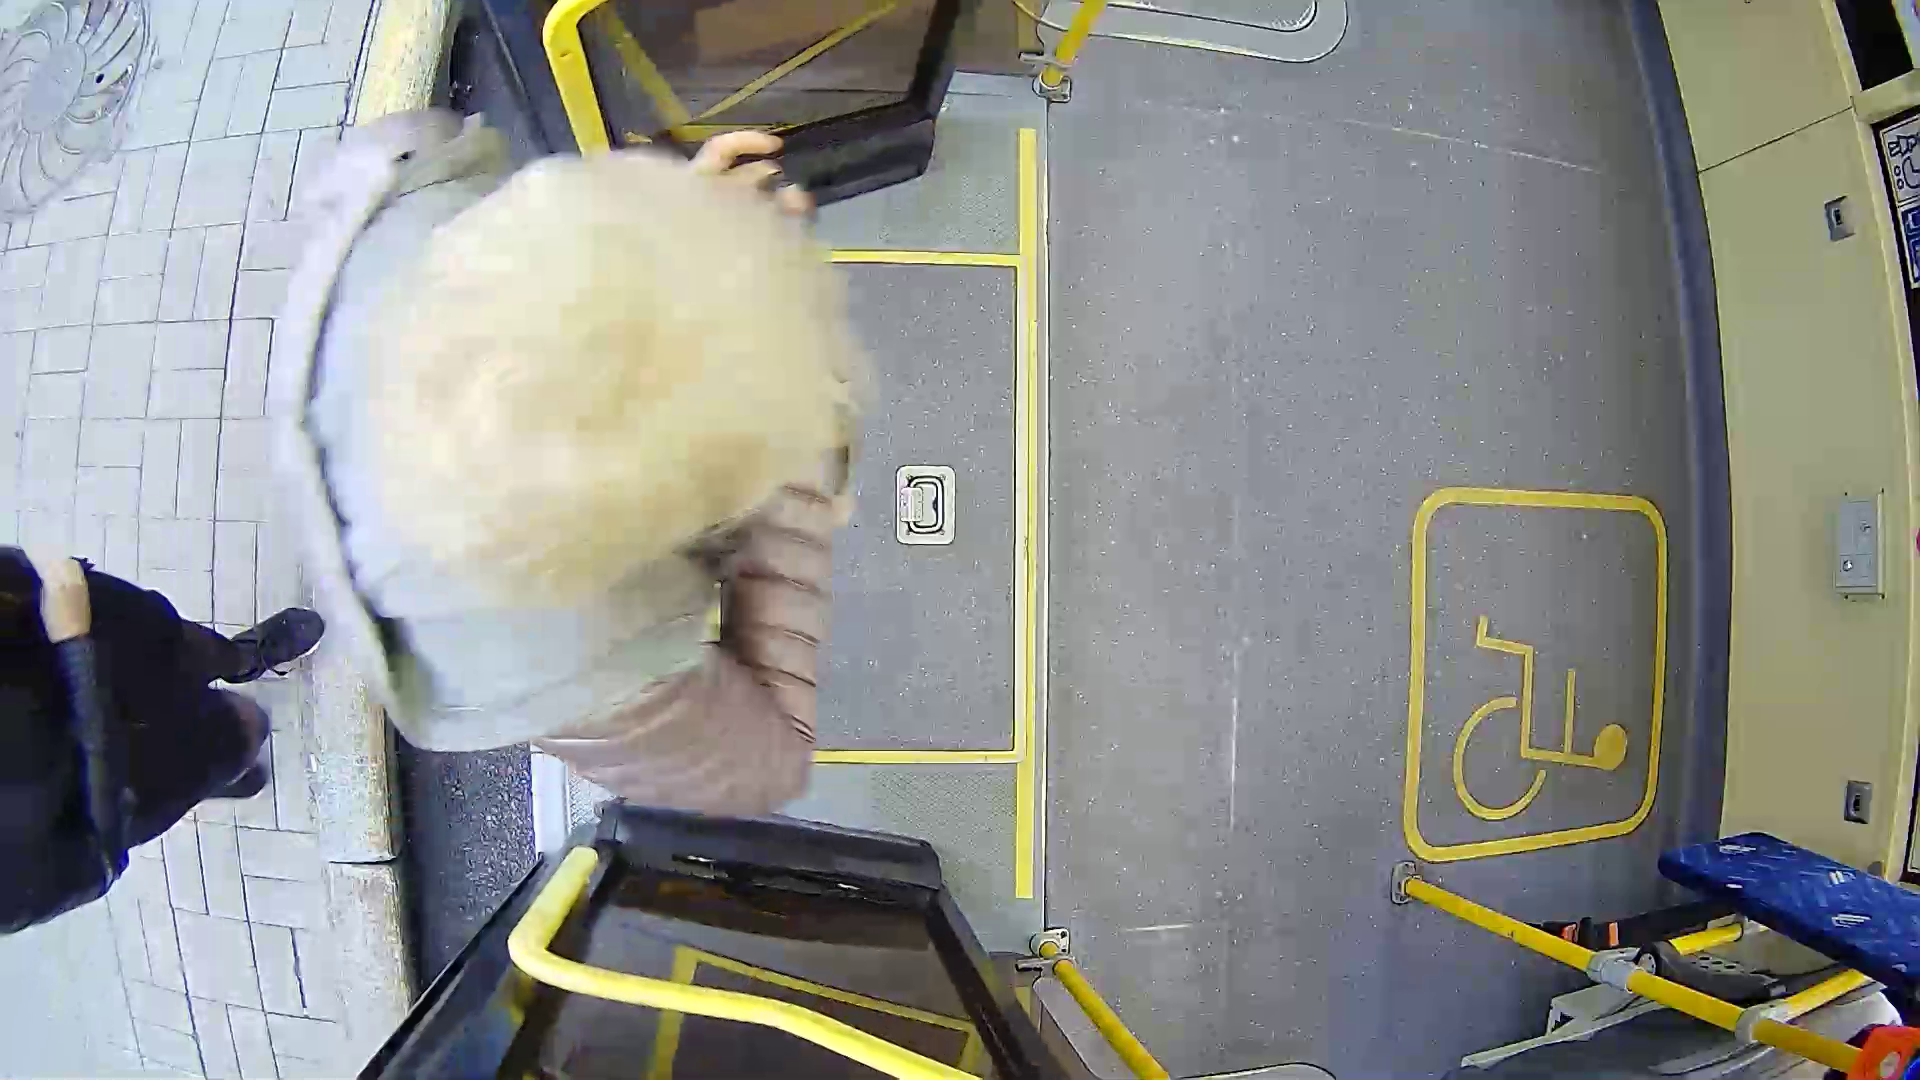person: (214, 122, 920, 828)
